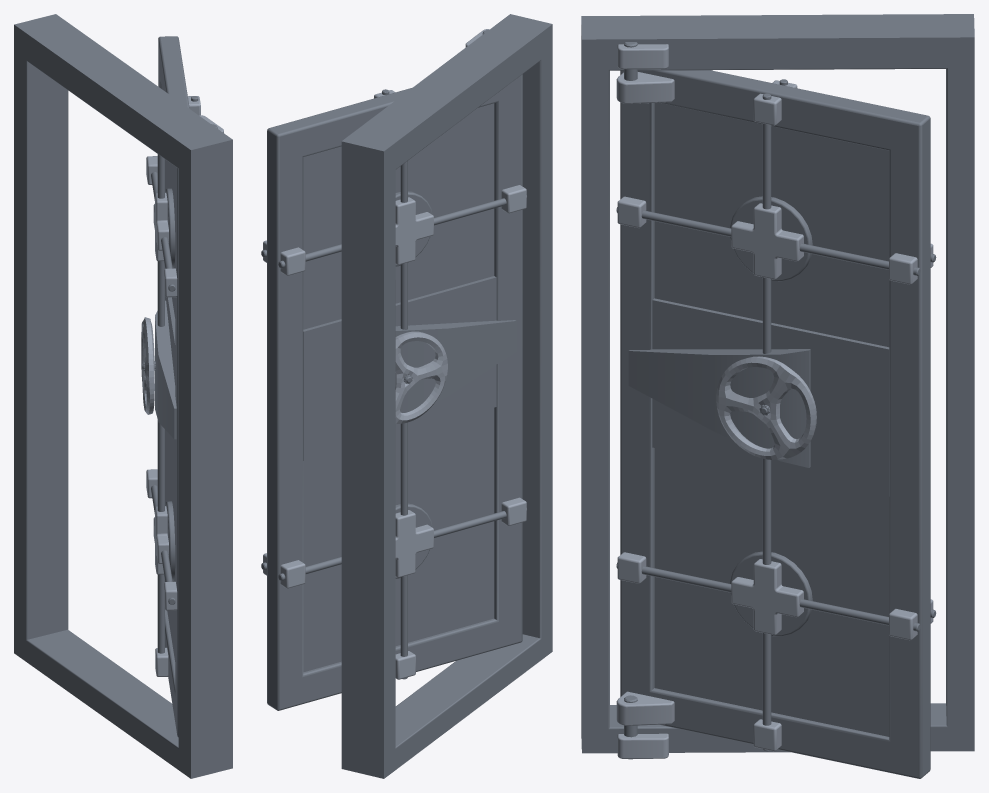
The model's file is door_factory-door-21-mb.fbx.
The picture shows the model from 3 angles, left to right: view 1: azimuth 30°, elevation 25°; view 2: azimuth 150°, elevation 25°; view 3: azimuth 270°, elevation 25°; orthographic projection. The views are drawn at different scales.
Visible parts, largest first — view 1: door.factory-door-21-mb; view 2: door.factory-door-21-mb; view 3: door.factory-door-21-mb.
Boxes of the visible parts, x1,y1,x2,y2 form: door.factory-door-21-mb: [14, 14, 232, 778]; door.factory-door-21-mb: [261, 14, 552, 778]; door.factory-door-21-mb: [581, 14, 974, 778].
Size of the model in its own units: 0.221 by 0.897 by 0.4459.
